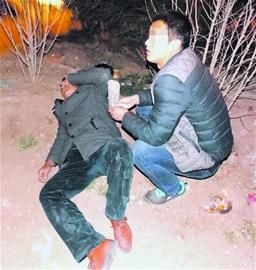falling: (33, 55, 142, 270)
